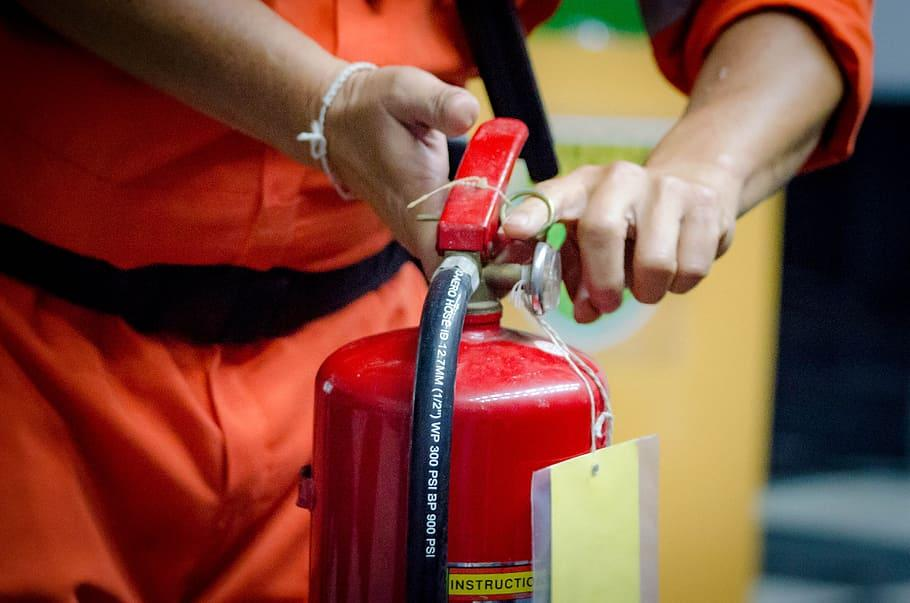Fire Extinguisher: (297, 113, 663, 603)
